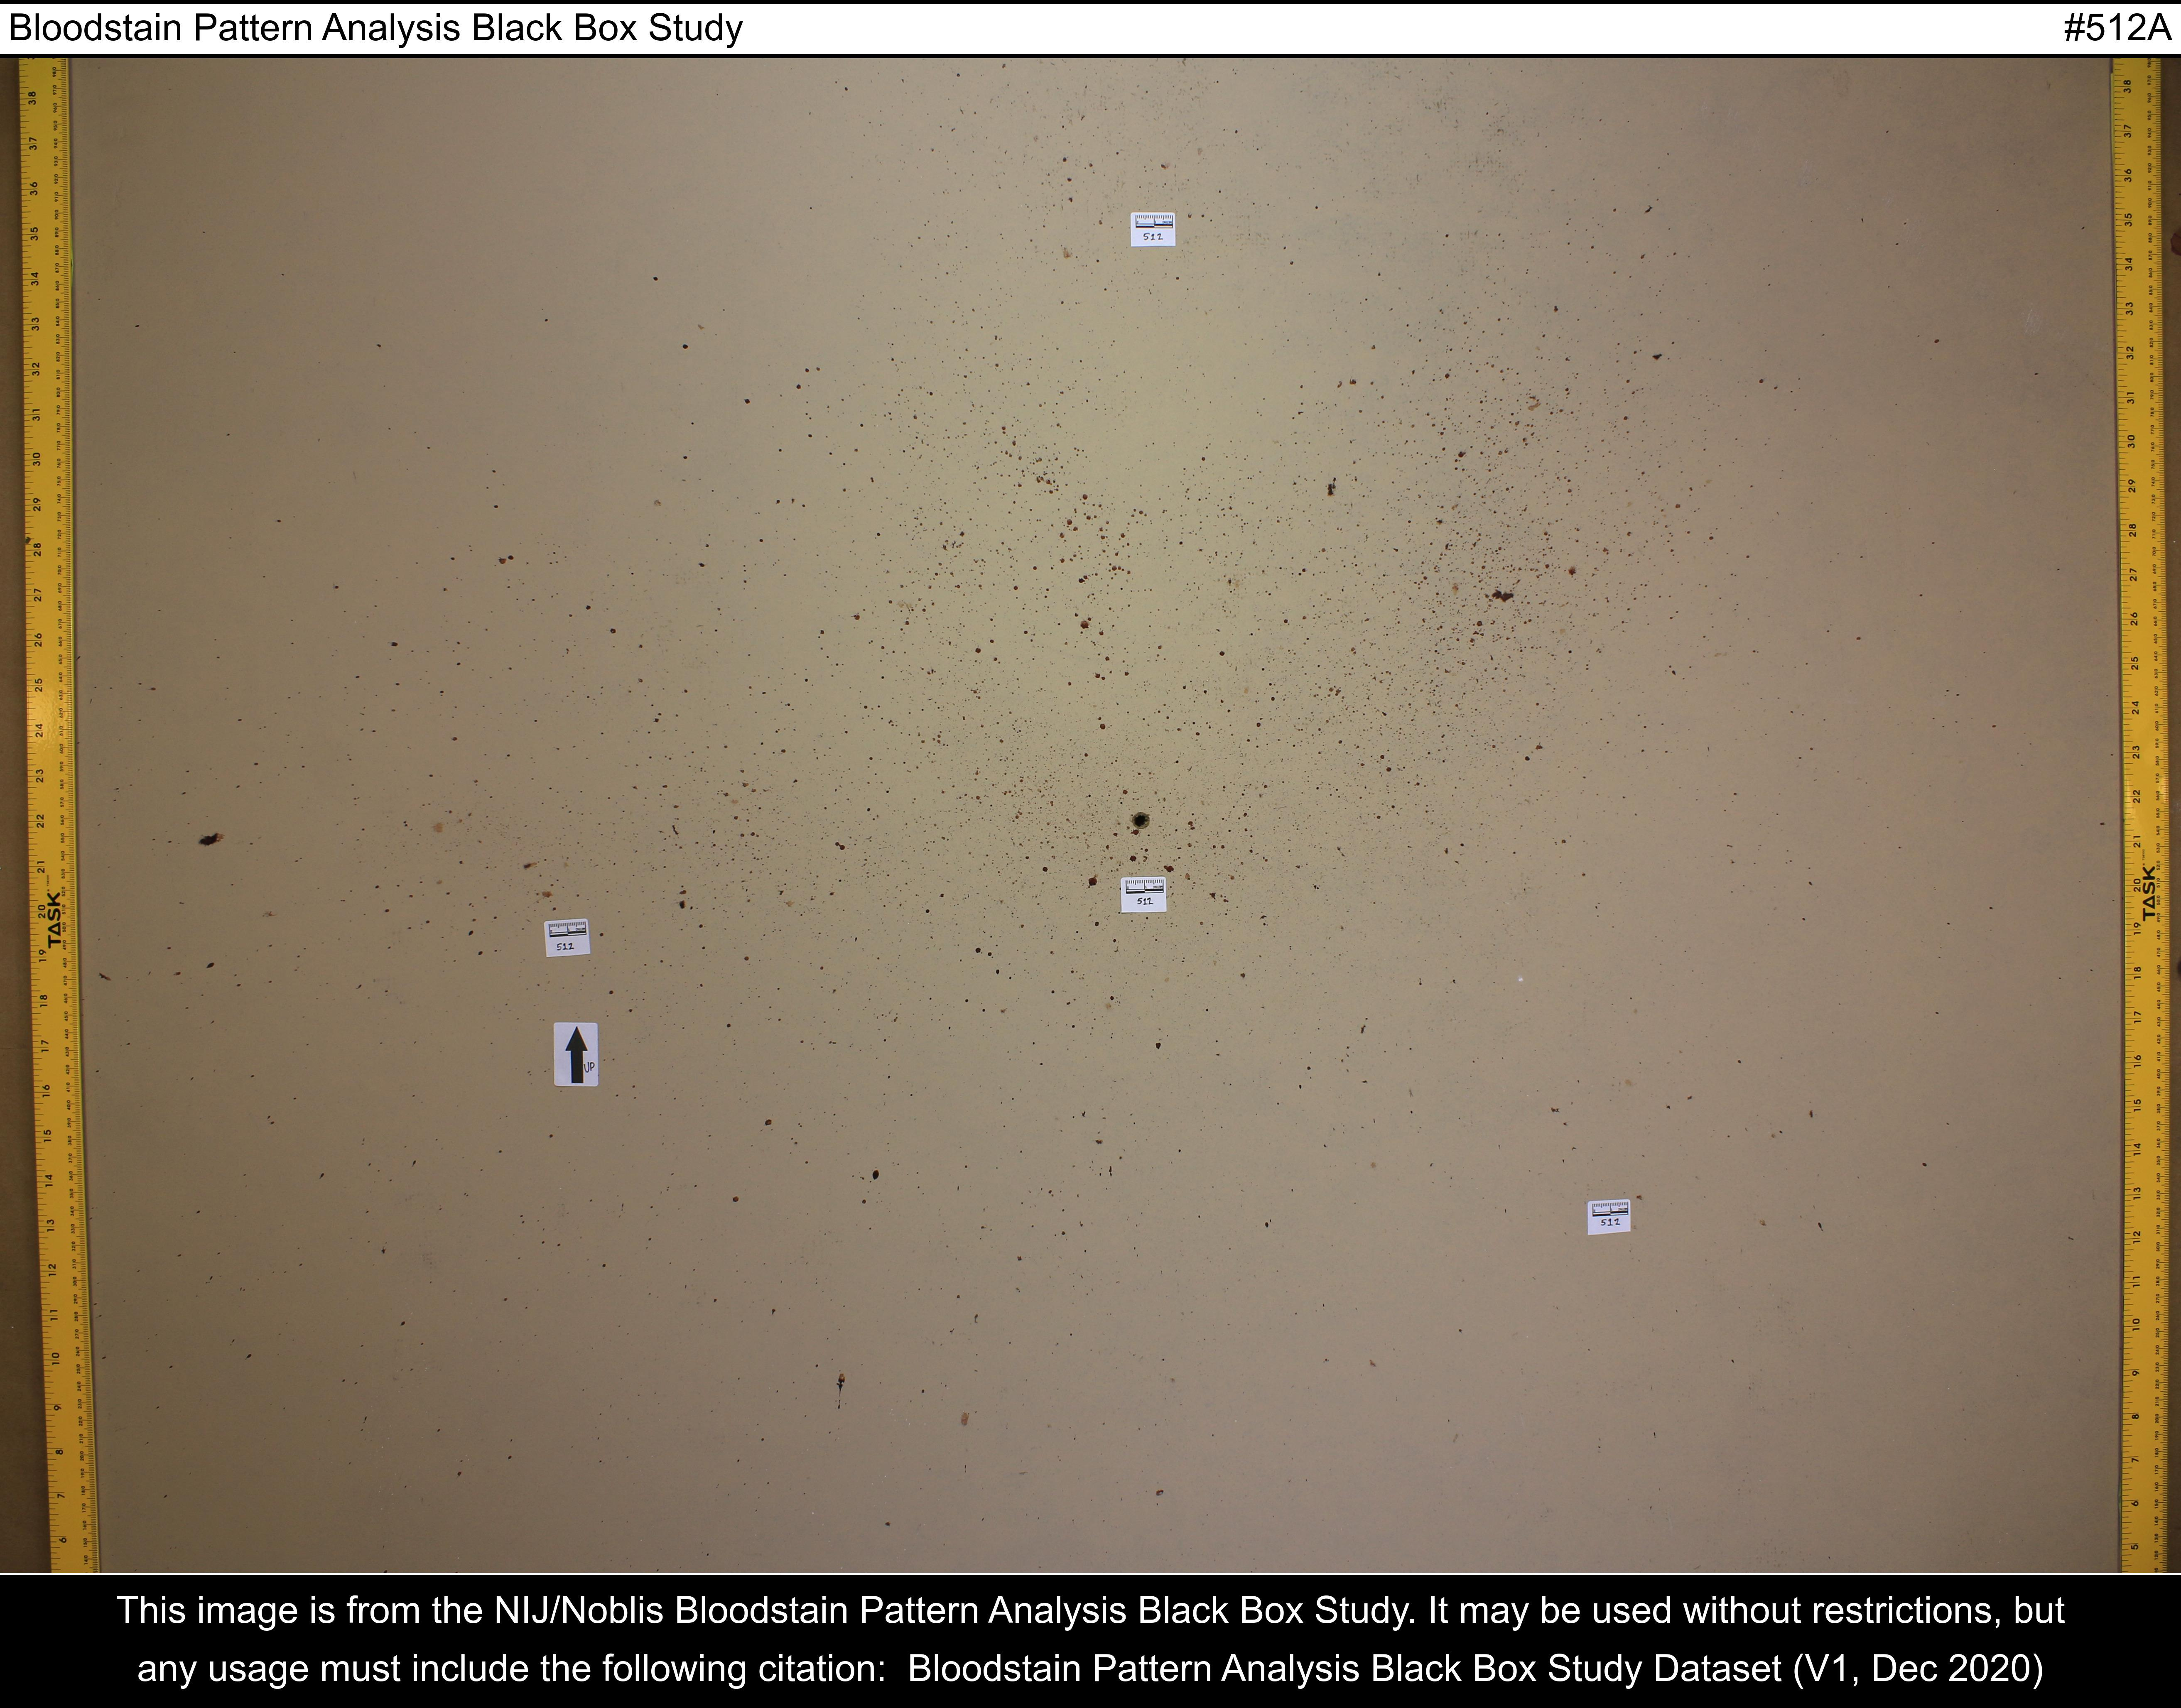Impact: (827, 411, 1643, 844), (650, 860, 1029, 1067), (131, 796, 605, 912)
